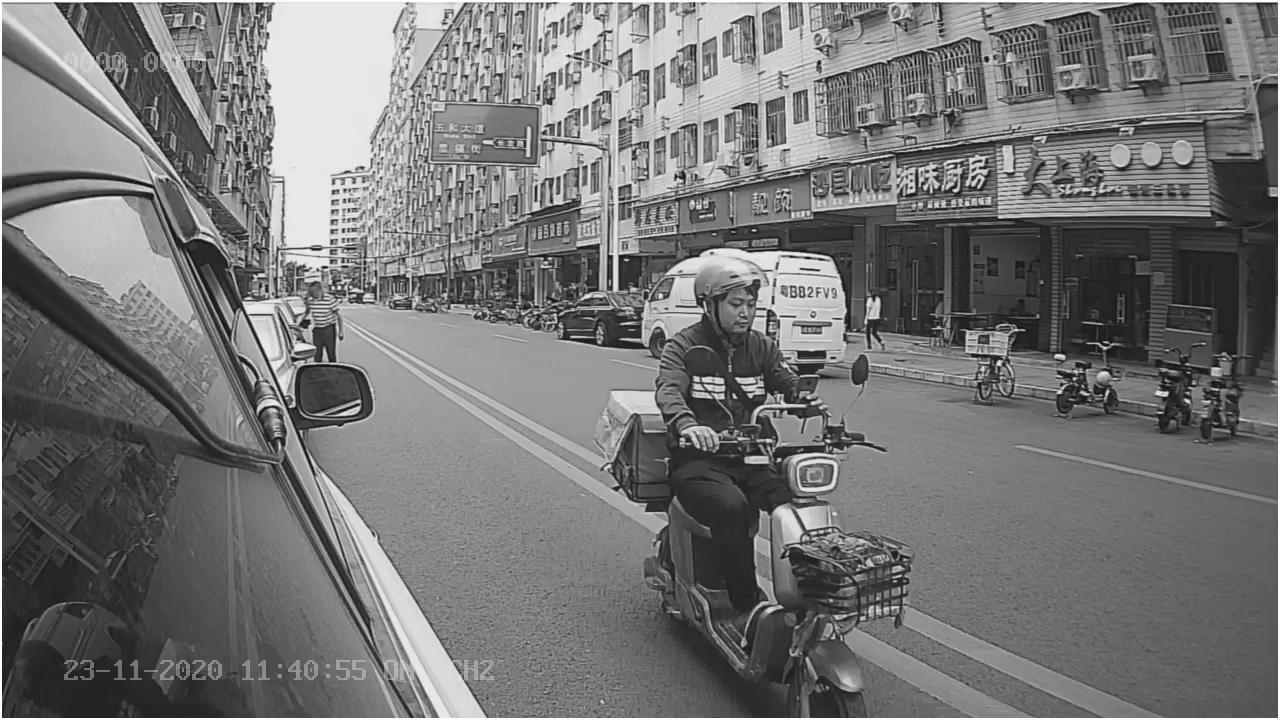person: (644, 259, 800, 402)
